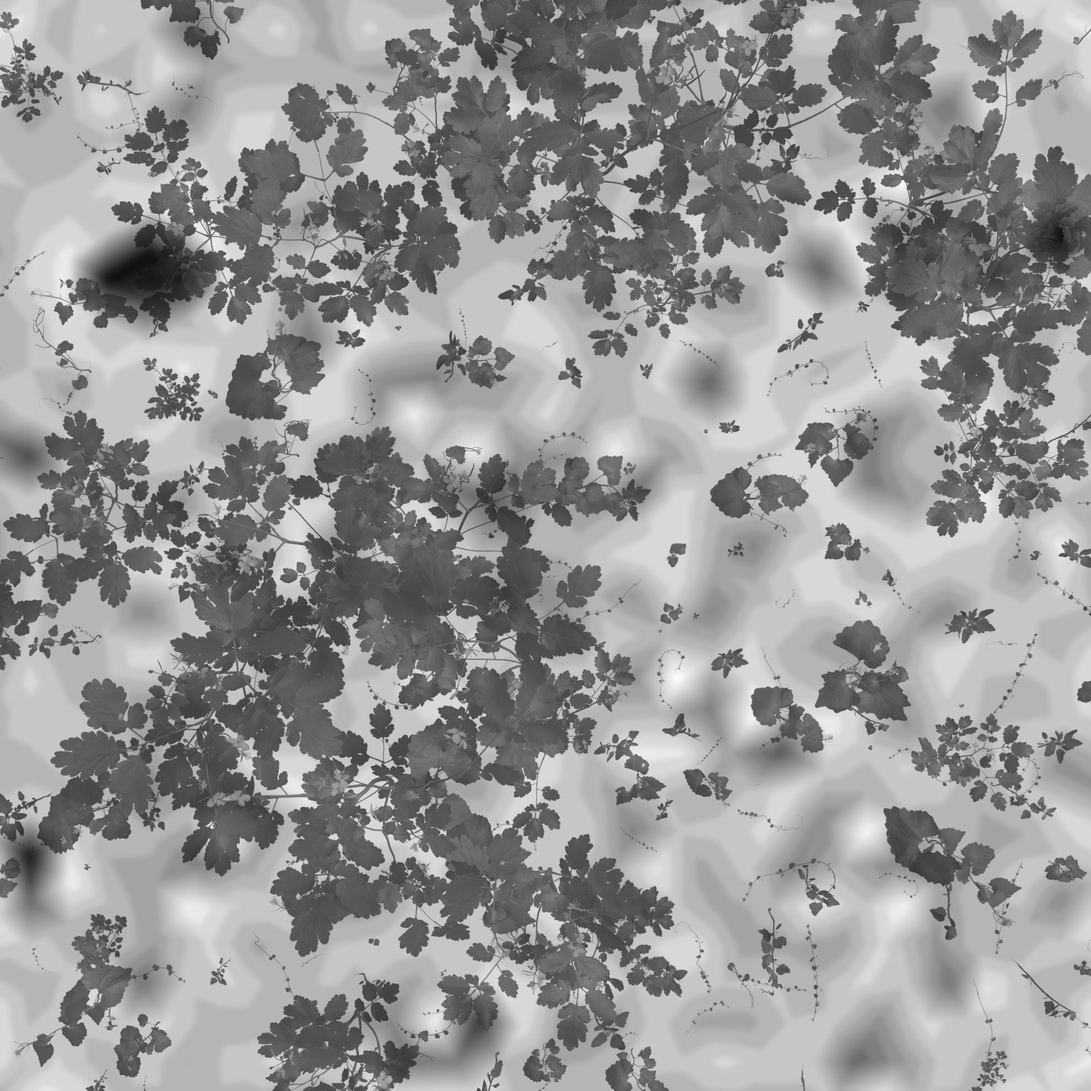landmine: (812, 373, 978, 548), (60, 206, 223, 362)
